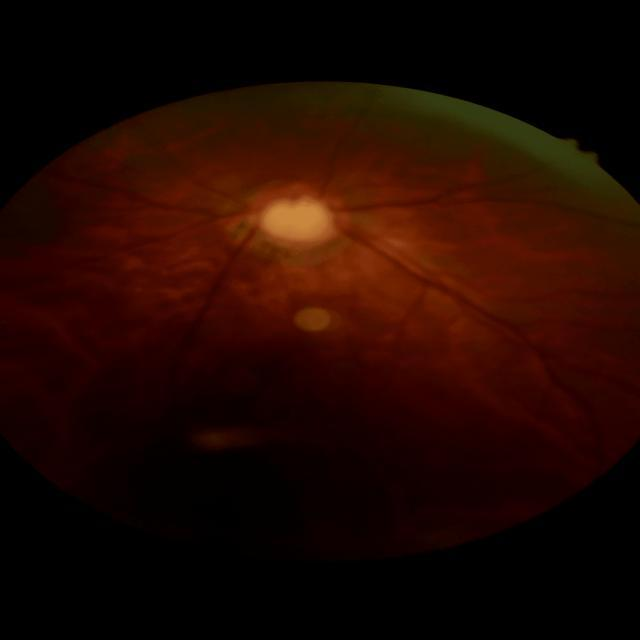cup: (264, 196, 332, 237)
disk: (242, 183, 350, 250)
